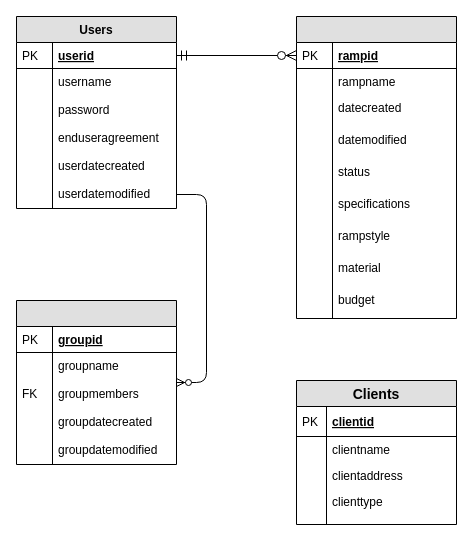
Some shapes in this 473 by 541 pixel diagram are drawn without their labels. Here are the shapes that lost their labels. From the top down, the box of each, then its label:
(296, 16, 456, 318): rampdesign
(16, 300, 176, 464): usergroups
